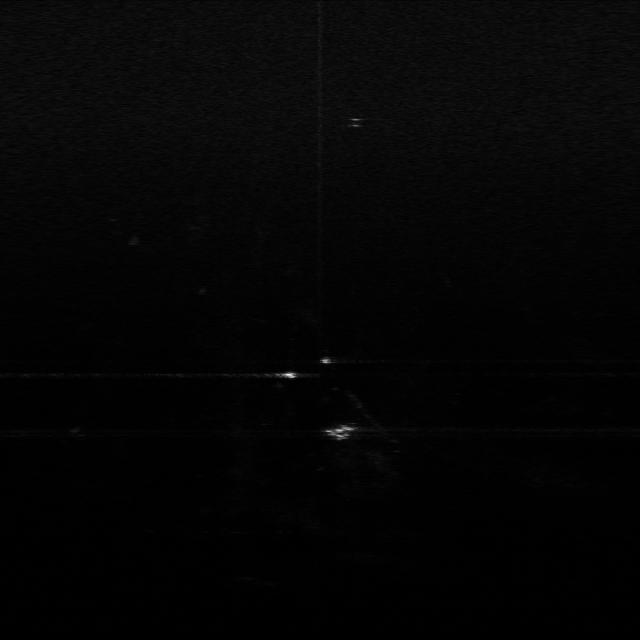rov: (318, 420, 361, 445)
